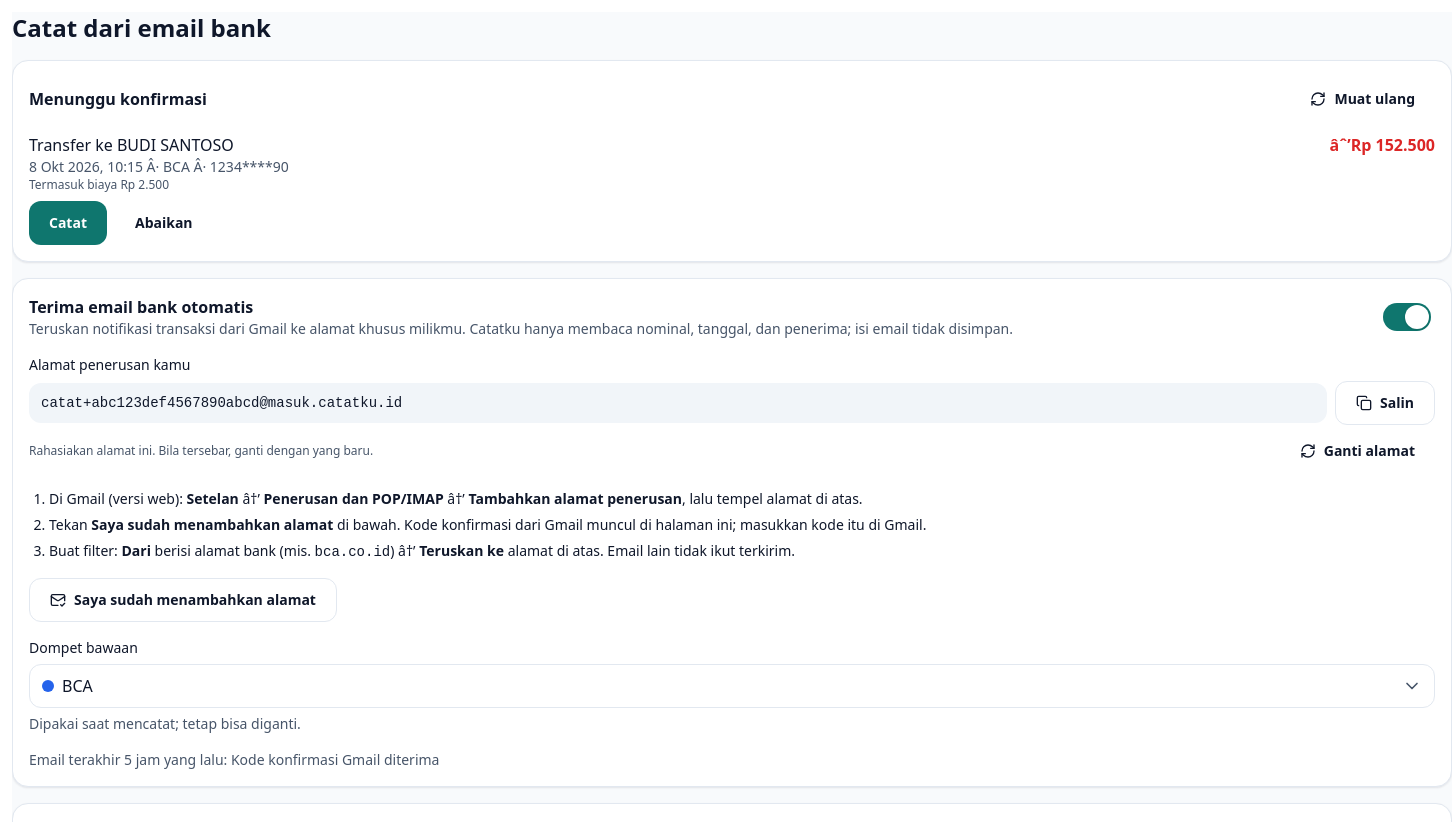
Scenario: BankEmailPage › Saya sudah menambahkan alamat: memeriksa kotak masuk sampai kode baru muncul
Click the button "Saya sudah menambahkan alamat" at (183, 600), box [29,578,337,622]
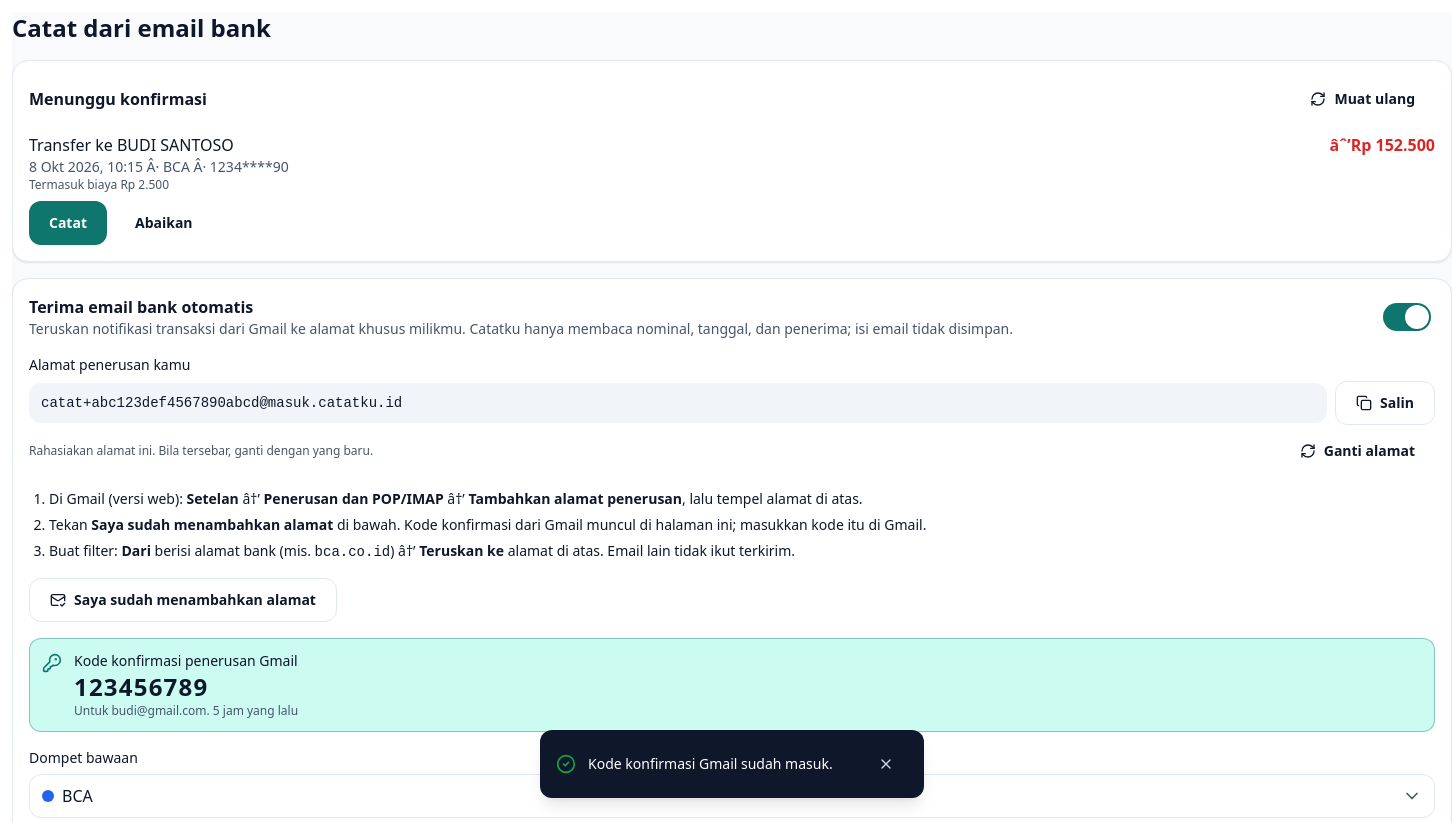
Expected: the text "123456789" is shown, [74,670,208,703]
Expected: the text "Kode konfirmasi Gmail sudah masuk." is shown, [588,754,852,774]
